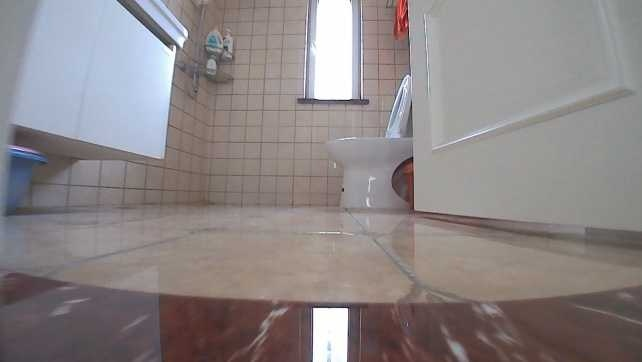toilet: (324, 74, 419, 215)
washstand: (9, 0, 192, 187)
